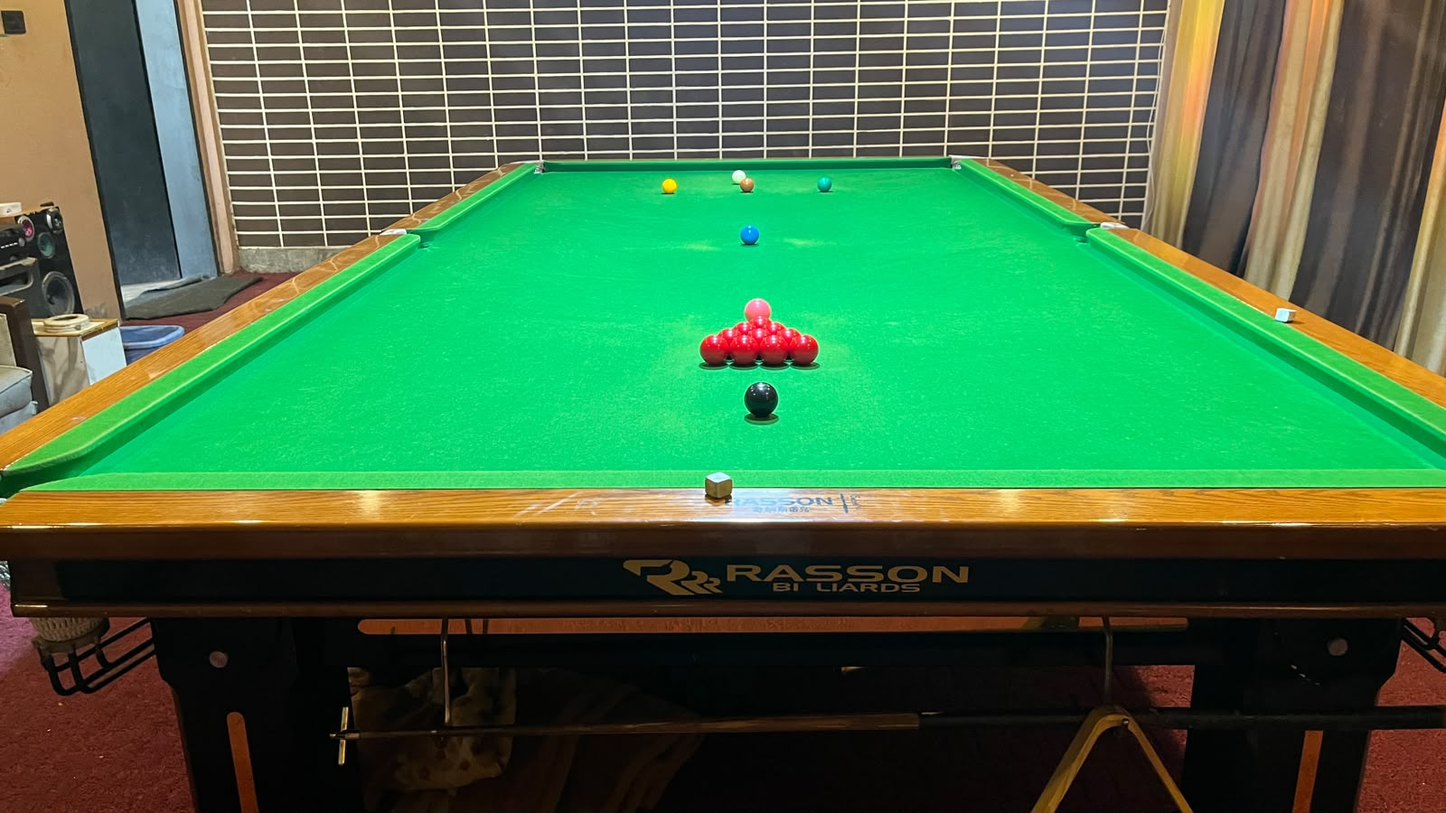Snooker: (696, 310, 833, 374)
